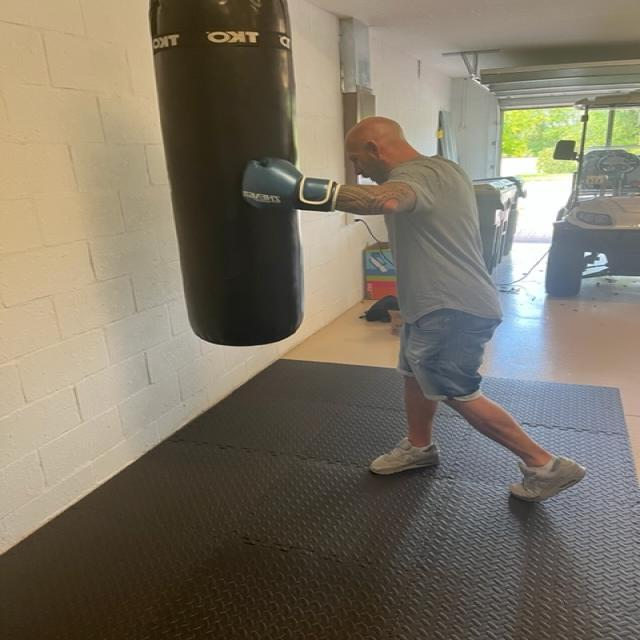hook: (222, 102, 504, 246)
